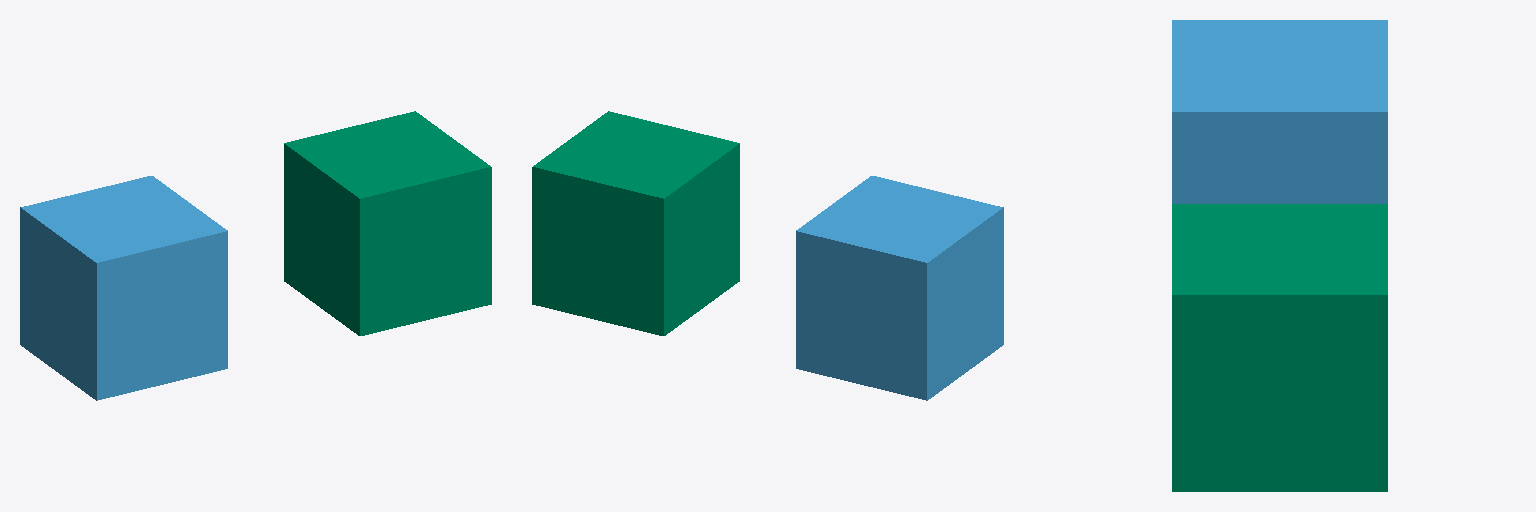
robot.urdf — sliding_boxes:
<?xml version="1.0" ?>

<robot name="sliding_boxes">

  <!-- Define links -->
  <link name="base_link"/>

  <!-- First box -->
  <link name="box1">
    <visual>
      <geometry>
        <box size="0.1 0.1 0.1"/>
      </geometry>
    </visual>
  </link>

  <!-- Second box -->
  <link name="box2">
    <visual>
      <geometry>
        <box size="0.1 0.1 0.1"/>
      </geometry>
    </visual>
  </link>

  <!-- Define prismatic joint for sliding -->
  <joint name="sliding_joint" type="prismatic">
    <parent link="base_link"/>
    <child link="box1"/>
    <origin xyz="0 0 0" rpy="0 0 0"/>
    <axis xyz="1 0 0"/>
    <limit lower="-1" upper="1" effort="100" velocity="0.1"/>
  </joint>

  <!-- Connect the second box to the first one -->
  <joint name="box_joint" type="prismatic">
    <parent link="box1"/>
    <child link="box2"/>
    <origin xyz="0.2 0 0" rpy="0 0 0"/>
    <axis xyz="1 0 0"/>
    <limit lower="-1" upper="1" effort="100" velocity="0.1"/>
  </joint>

</robot>

--- Render facts (derived) ---
Views: 3 orthographic renders of the robot side by side, from view 1: azimuth 30°, elevation 25°; view 2: azimuth 150°, elevation 25°; view 3: azimuth 270°, elevation 25°.
Robot: sliding_boxes — 3 links, 2 joints (2 prismatic); root link base_link; default pose: all joints at 0.
Links seen in each view (by area): view 1: box1, box2; view 2: box1, box2; view 3: box2, box1.
Boxes of the visible links, x1=… form: box1: x1=20, y1=176, x2=227, y2=400; box2: x1=284, y1=111, x2=491, y2=335; box1: x1=796, y1=176, x2=1003, y2=400; box2: x1=532, y1=111, x2=739, y2=335; box2: x1=1172, y1=204, x2=1387, y2=491; box1: x1=1172, y1=20, x2=1387, y2=203.
Bounding box of the posed robot: 0.3 × 0.1 × 0.1 m (x, y, z).
Geometry: primitives only (box / cylinder / sphere), no mesh files.
